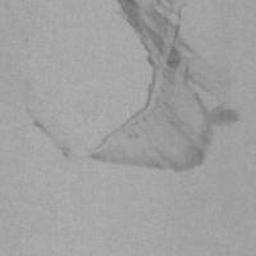Water spot: (90, 0, 242, 173), (24, 105, 73, 159)
